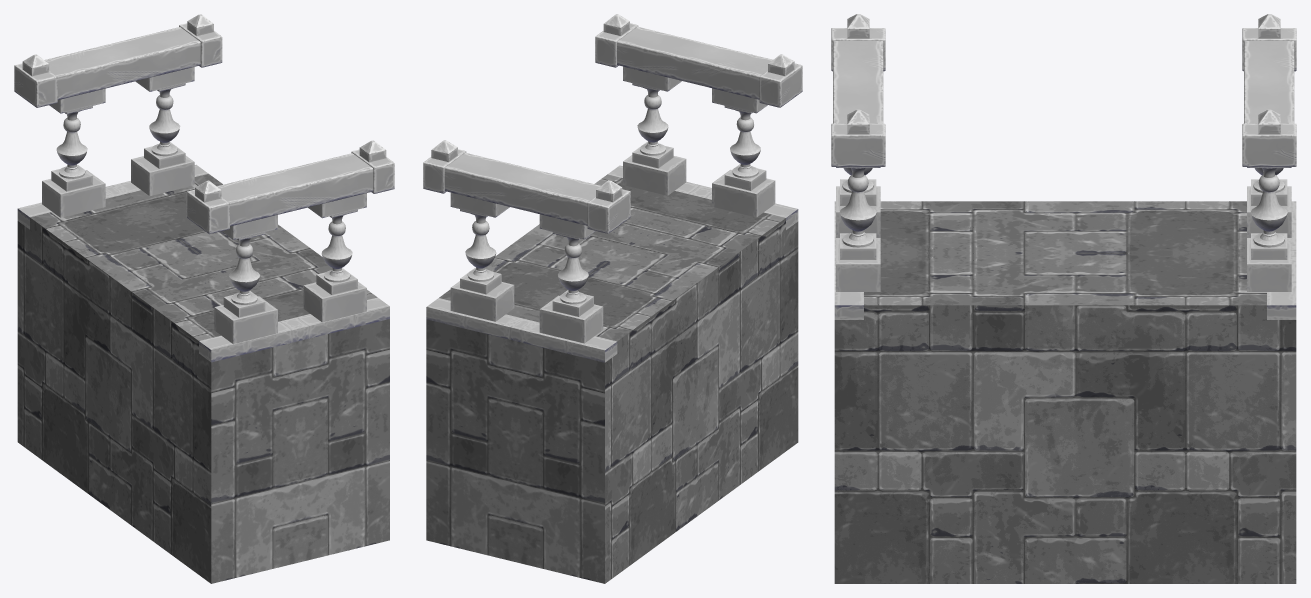
File: Puente_balostres_Union.fbx
3 views of the same model, side by side, from view 1: azimuth 30°, elevation 25°; view 2: azimuth 150°, elevation 25°; view 3: azimuth 270°, elevation 25° (orthographic). The views are drawn at different scales.
Parts seen in each view (by area): view 1: Puente_Balostres_Union_LOD0; view 2: Puente_Balostres_Union_LOD0; view 3: Puente_Balostres_Union_LOD0.
Part boxes in pixels (left/top/right/bottom): Puente_Balostres_Union_LOD0: left=14, top=14, right=394, bottom=583; Puente_Balostres_Union_LOD0: left=423, top=14, right=802, bottom=583; Puente_Balostres_Union_LOD0: left=831, top=14, right=1296, bottom=583.
Size of what is drawn, in the model's own units: 166 by 337 by 302.
